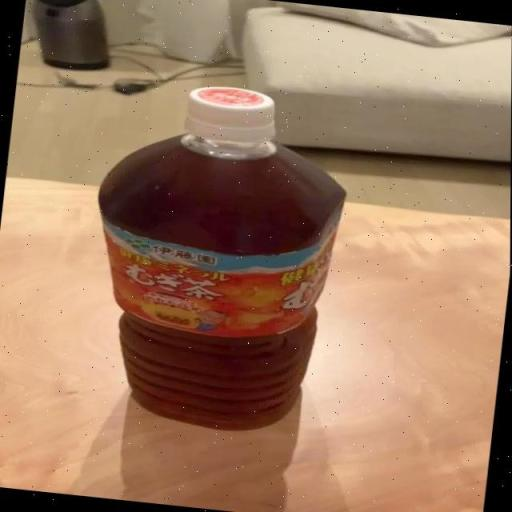plastic: (74, 74, 356, 438)
